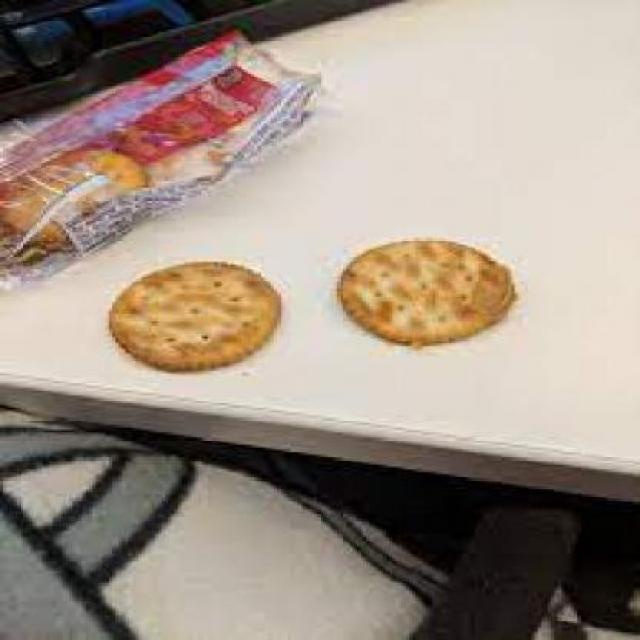Ritz cracker packaged: (75, 210, 568, 408)
